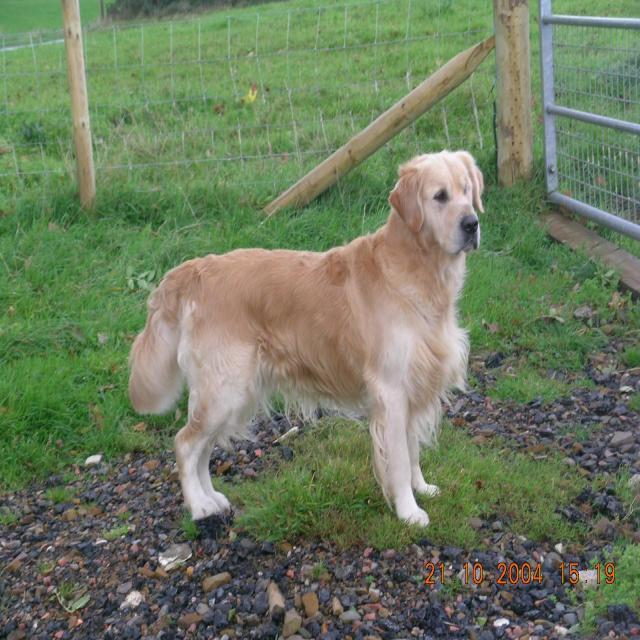good: (120, 150, 483, 521)
